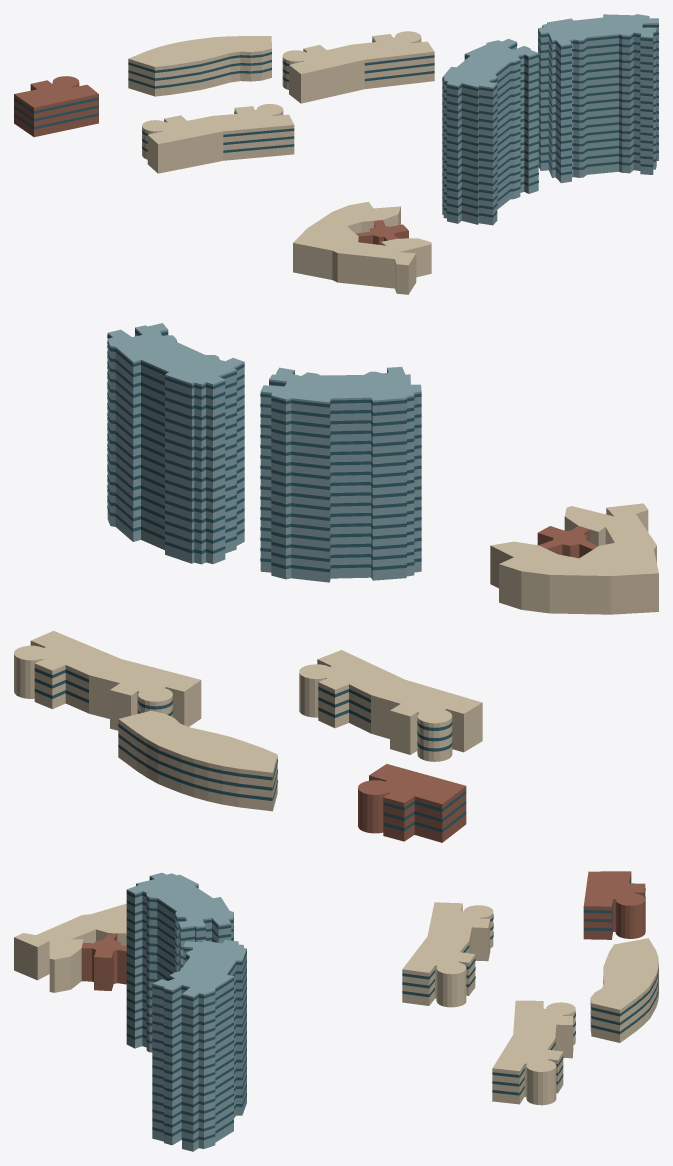
The model's file is city_4_-3.glb.
3 renders of one model, top to bottom at view 1: azimuth 30°, elevation 25°; view 2: azimuth 150°, elevation 25°; view 3: azimuth 270°, elevation 25°, orthographic. The views are drawn at different scales.
Parts seen in each view (by area): view 1: city_4_-3; view 2: city_4_-3; view 3: city_4_-3.
Part boxes in pixels (box(x1,y1,x2,y2)): city_4_-3: box(14, 14, 658, 294); city_4_-3: box(14, 323, 658, 842); city_4_-3: box(14, 871, 658, 1151).
Bounding box in the file's own units: 240 × 70 × 264.
